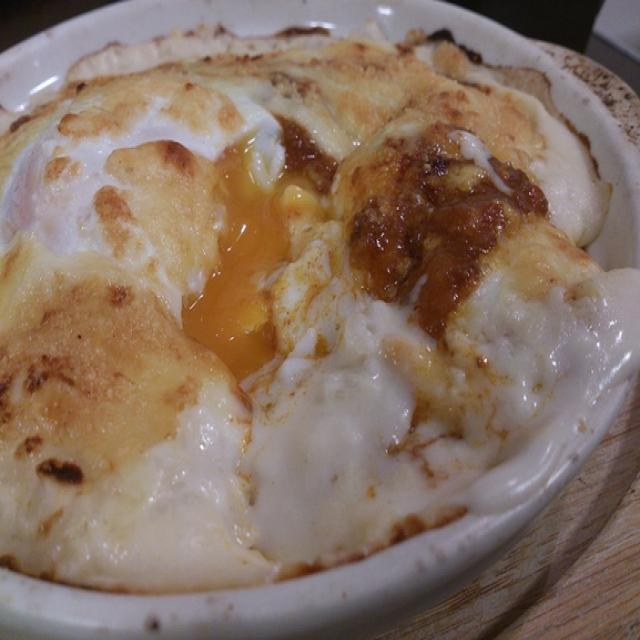米饭主食: (10, 18, 601, 621)
